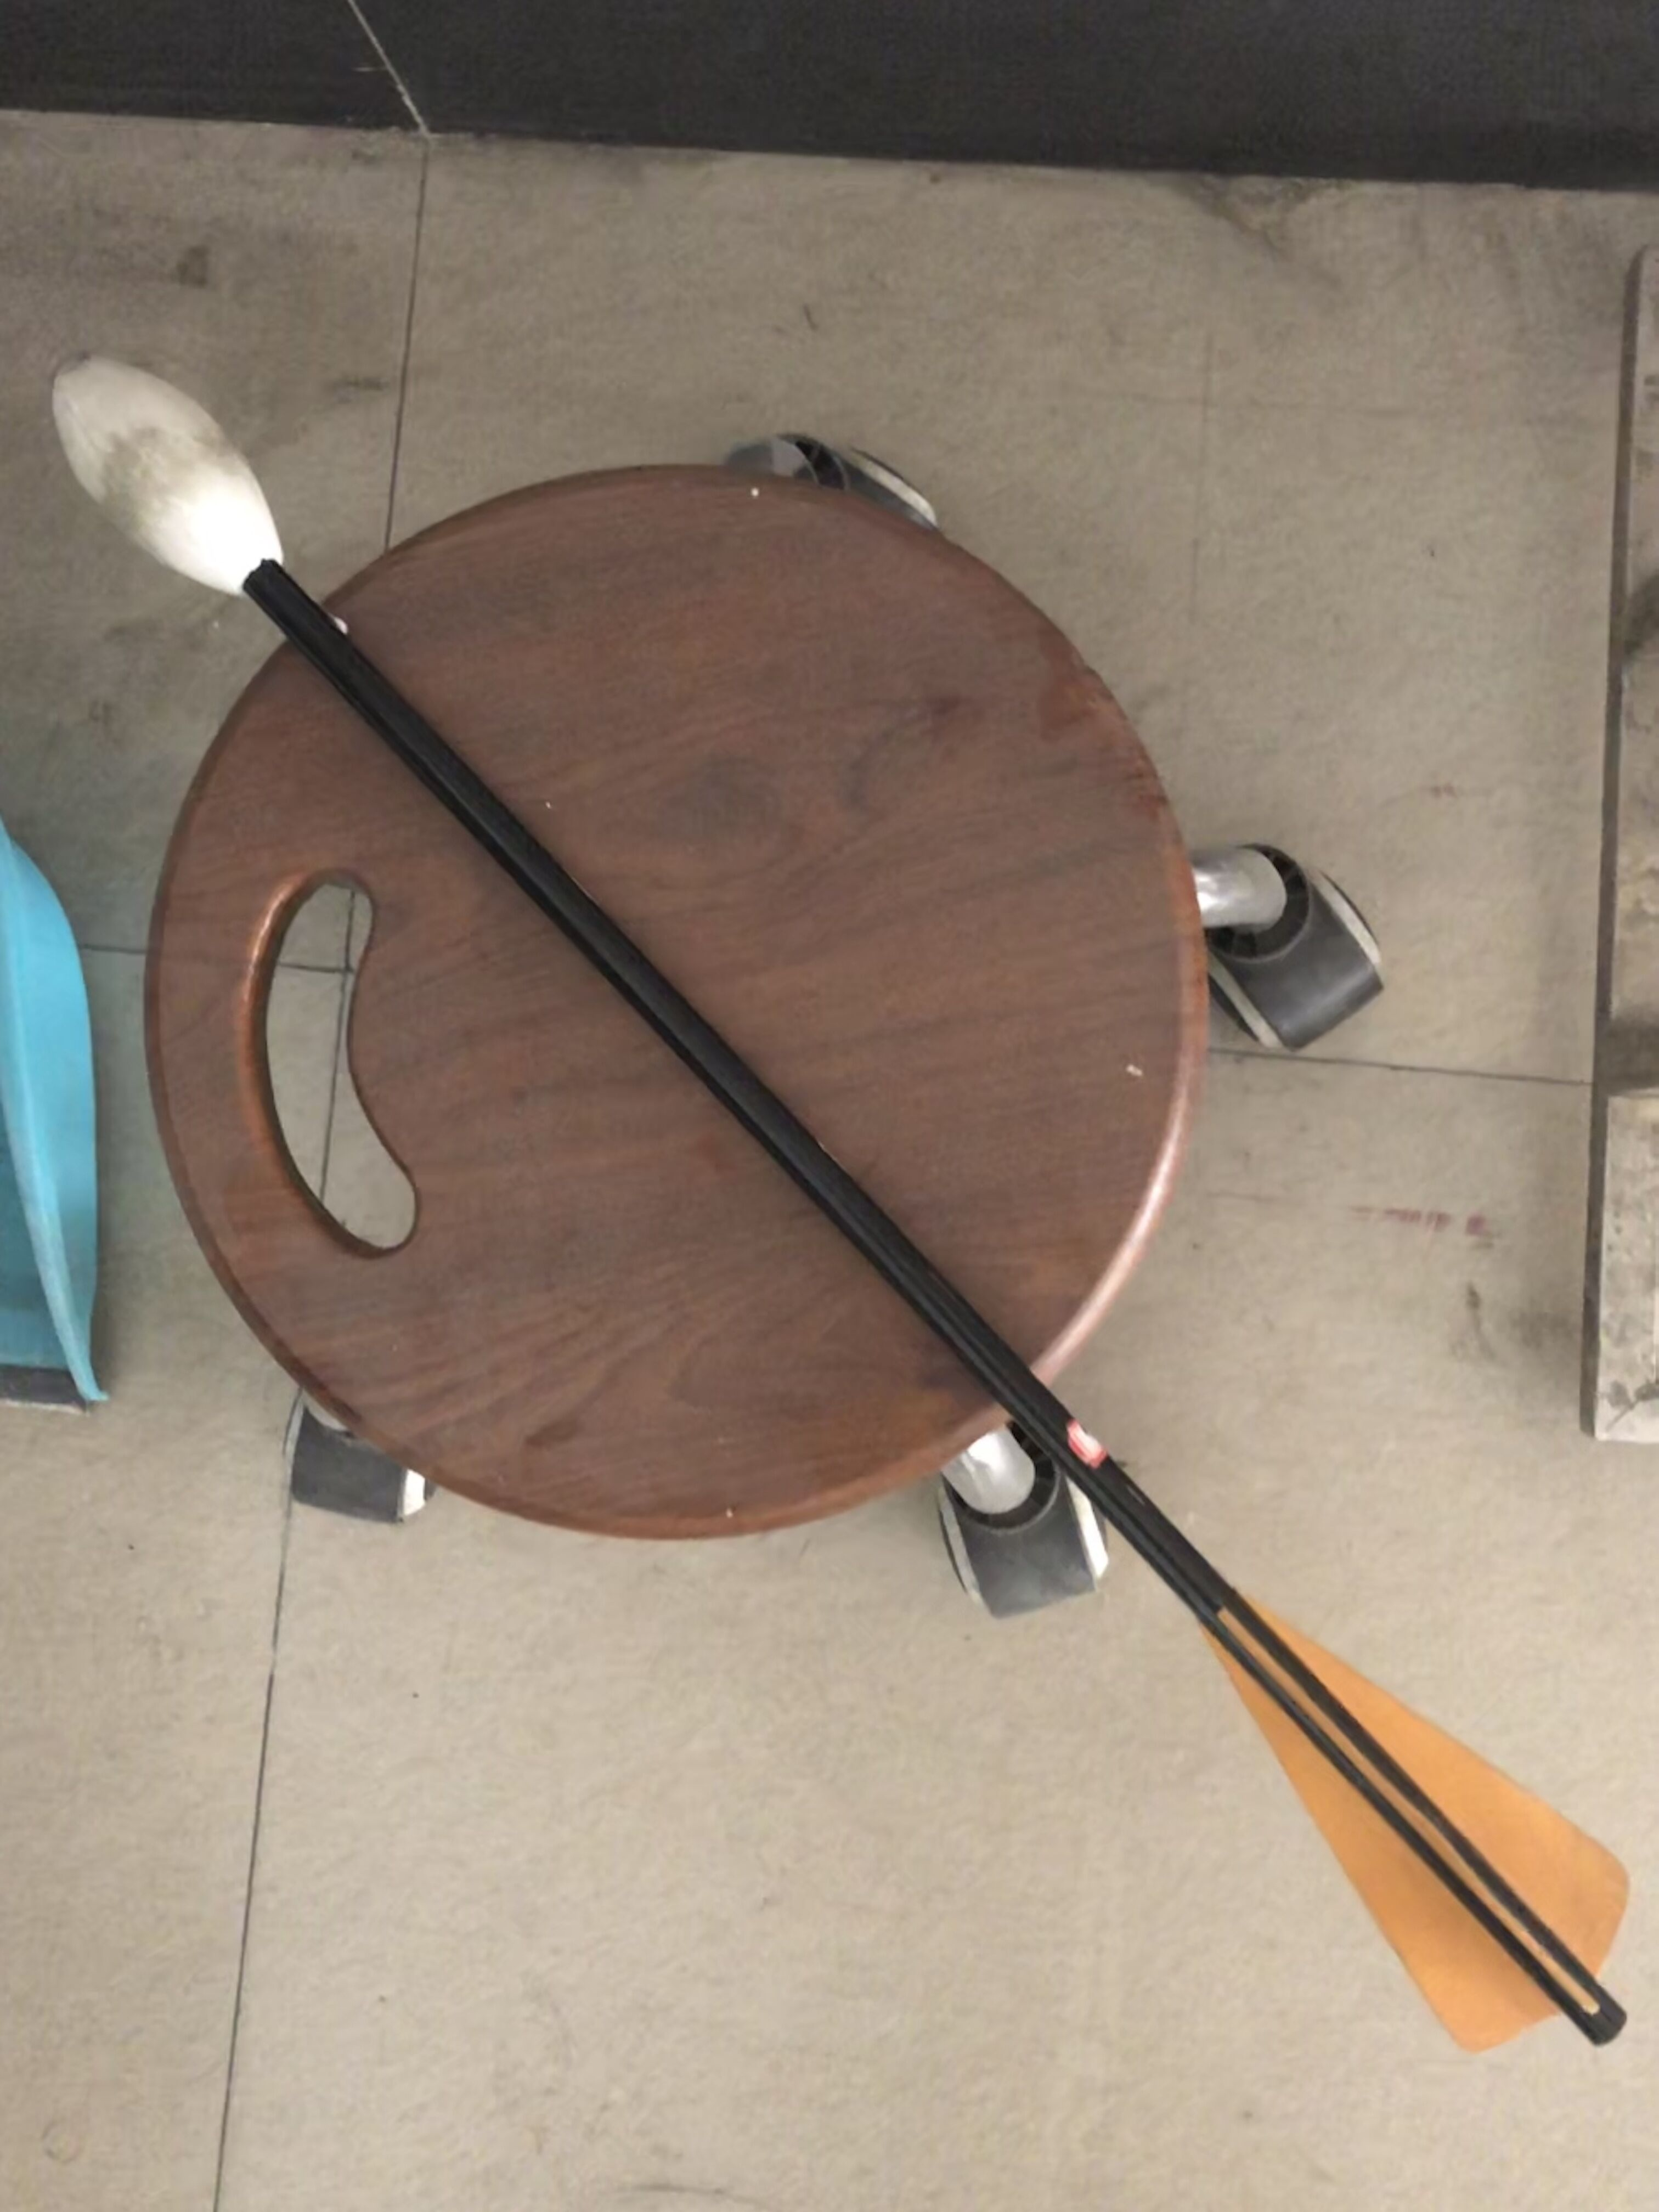arrow: (52, 355, 1635, 2057)
arrowFront: (52, 350, 293, 608)
